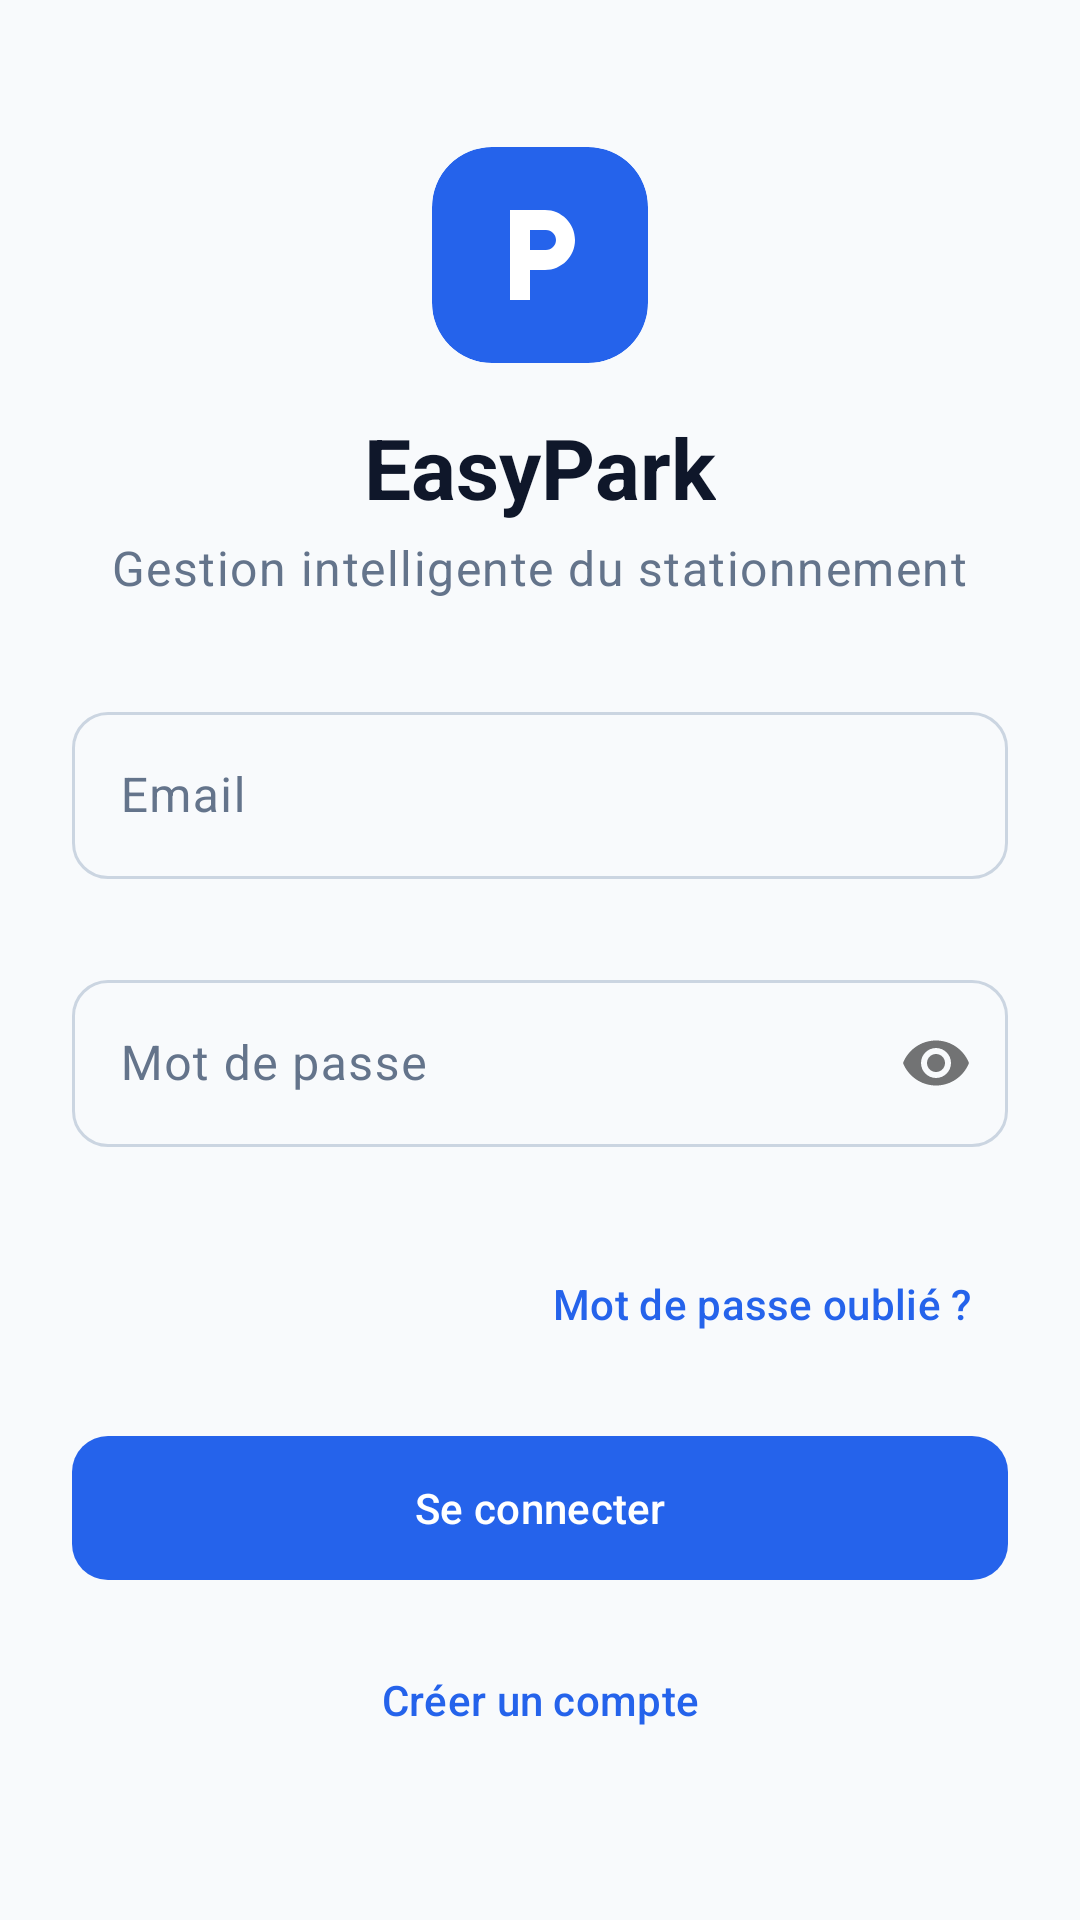

Icon bounding boxes for this 1080×1920 phone screenshot, format (x1, y1, x2, y2):
local parking: (510, 210, 575, 300)
